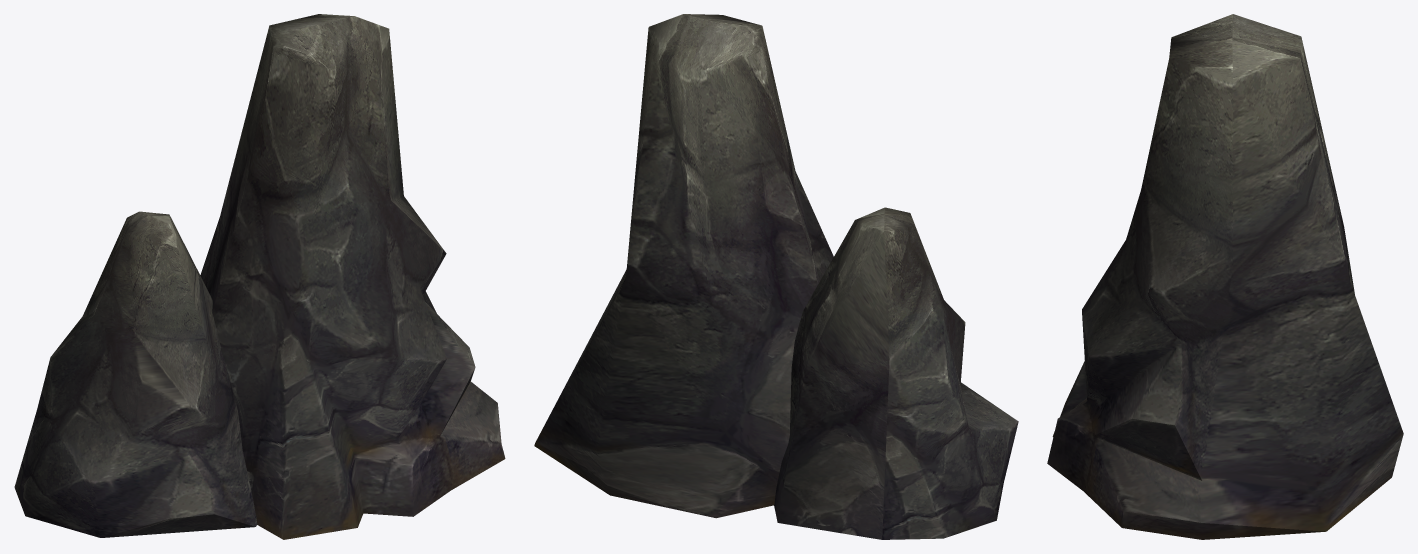
Rendered from common_underground_dongxueshitou04.FBX.
The picture shows the model from 3 angles, left to right: view 1: azimuth 30°, elevation 25°; view 2: azimuth 150°, elevation 25°; view 3: azimuth 270°, elevation 25°; orthographic projection. The views are drawn at different scales.
Visible parts, largest first — view 1: common_underground_dongxueshitou04; view 2: common_underground_dongxueshitou04; view 3: common_underground_dongxueshitou04.
Part boxes in pixels (x1,y1,x2,y2): common_underground_dongxueshitou04: (14,14,505,539); common_underground_dongxueshitou04: (534,14,1018,539); common_underground_dongxueshitou04: (1047,14,1403,539).
Size of the model in its own units: 8.34 by 7.55 by 5.56.
